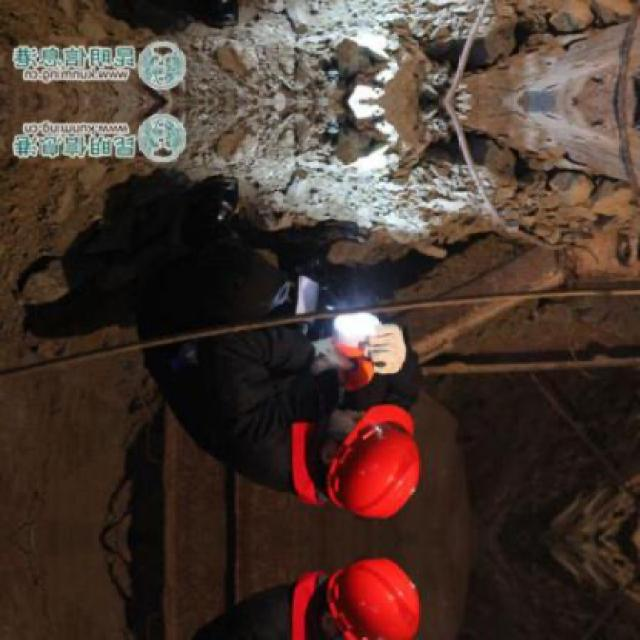con casco: (242, 385, 454, 524)
